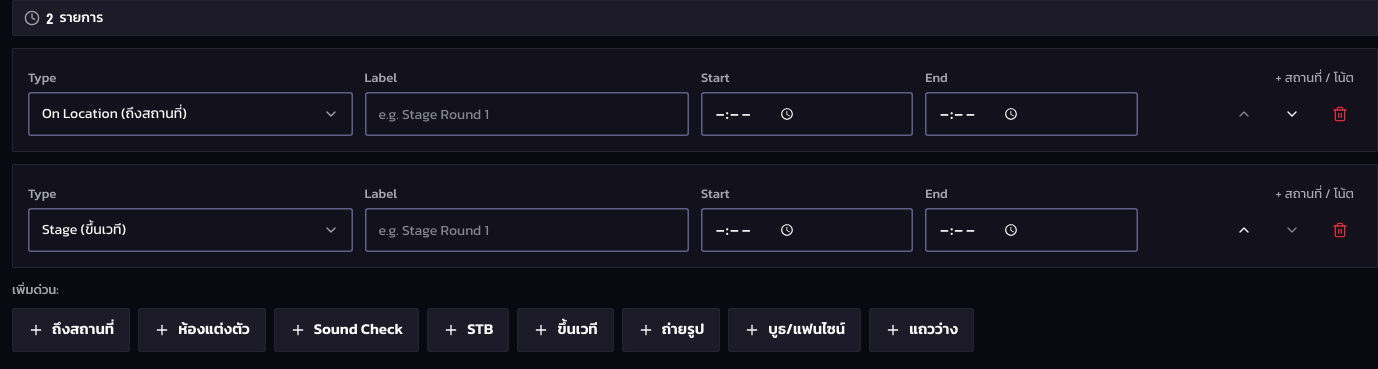
it: desktop call sheet vs a server that is up and answering badly › a 403 is still a real rejection - never queued
The width and height of the screenshot is (1378, 369).
In the 1st field labelled "Label": {"x": 527, "y": 114} [364, 92, 689, 136], type "ถึงหน้างาน"
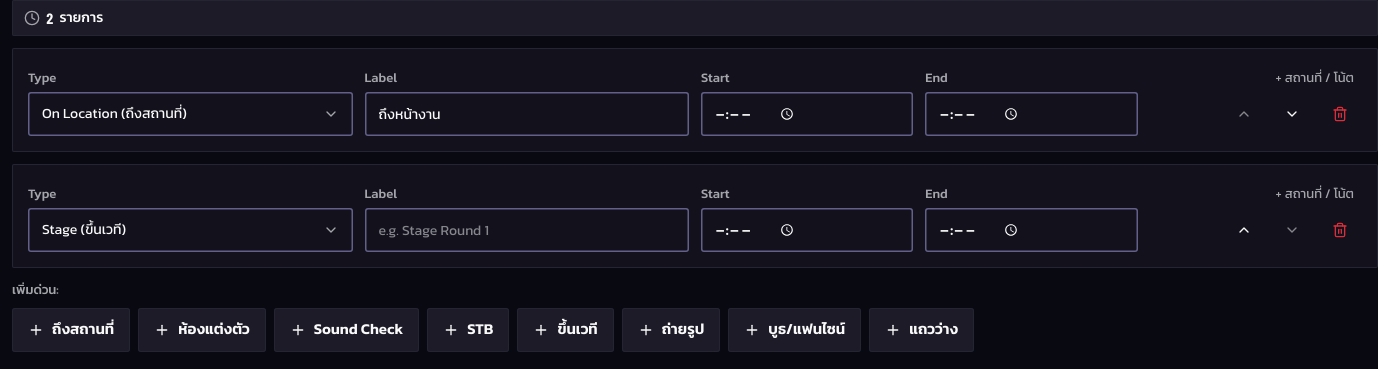
Leave the 1st field labelled "Label", box [364, 92, 689, 136]
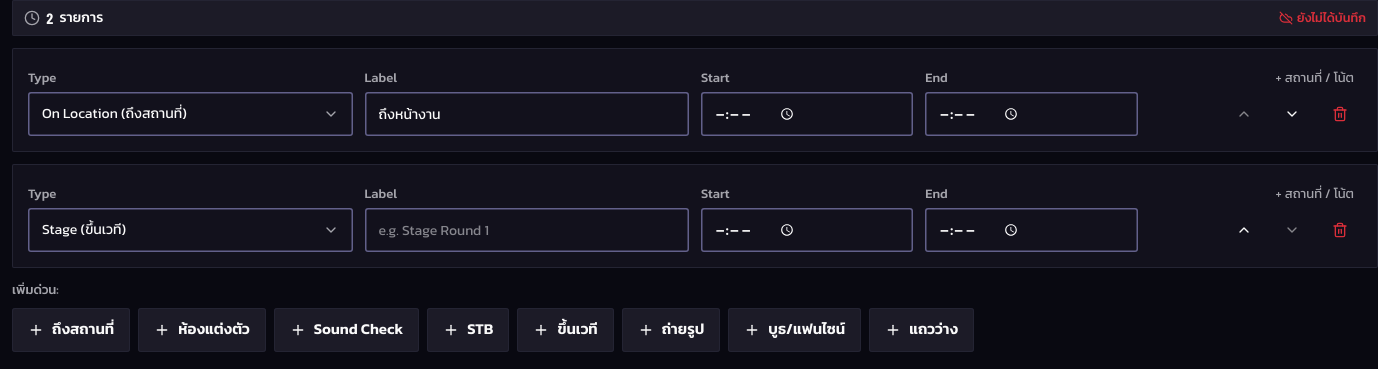
Expected: the text "ยังไม่ได้บันทึก" is shown, [1279, 8, 1366, 28]
